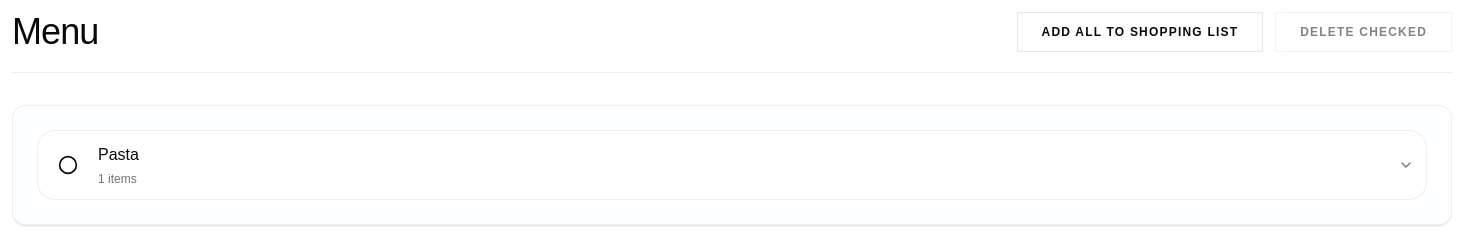
Test: MenuPage › optimistically toggles menu items without waiting for the server response
The image size is (1464, 243).
Click the button named "Toggle checked state" at (68,165), box [50,147,86,183]
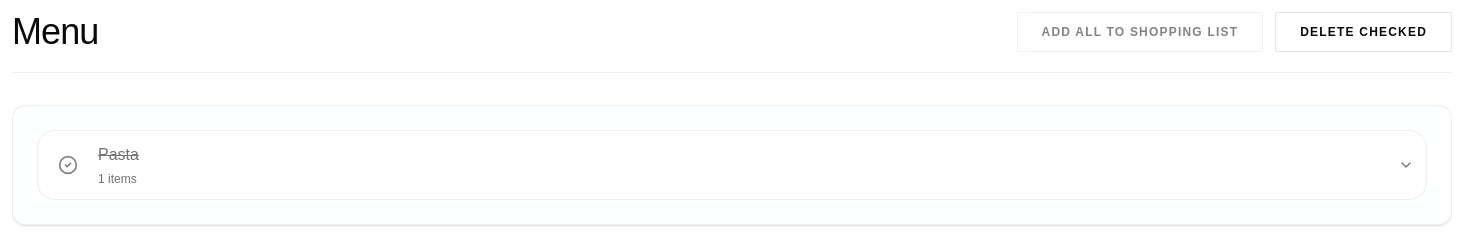
Check: the button named "Toggle checked state" is disabled, box [50,147,86,183]
